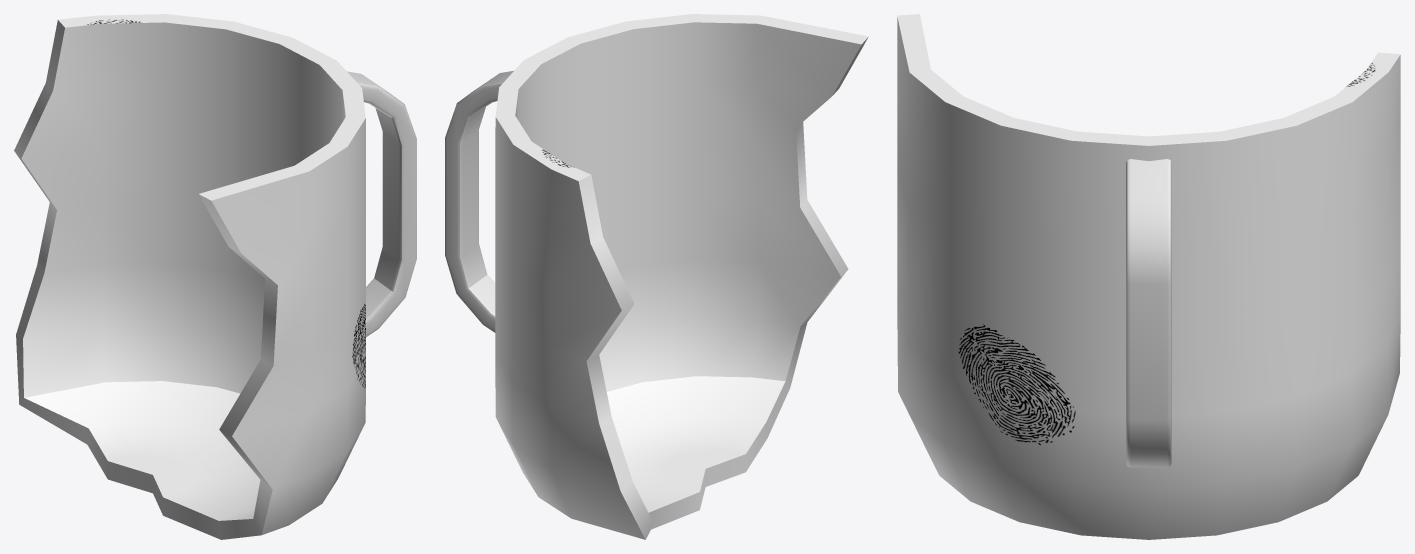
Rendered from Taza.fbx.
3 views of the same model, side by side, from view 1: azimuth 30°, elevation 25°; view 2: azimuth 150°, elevation 25°; view 3: azimuth 270°, elevation 25° (orthographic). The views are drawn at different scales.
Parts seen in each view (by area): view 1: Taza1; view 2: Taza1; view 3: Taza1.
Boxes of the visible parts, <box> form: Taza1: <box>14,14,416,539</box>; Taza1: <box>445,14,868,539</box>; Taza1: <box>897,14,1400,539</box>.
Size of the model in its own units: 1.77 by 2.1 by 2.2.
